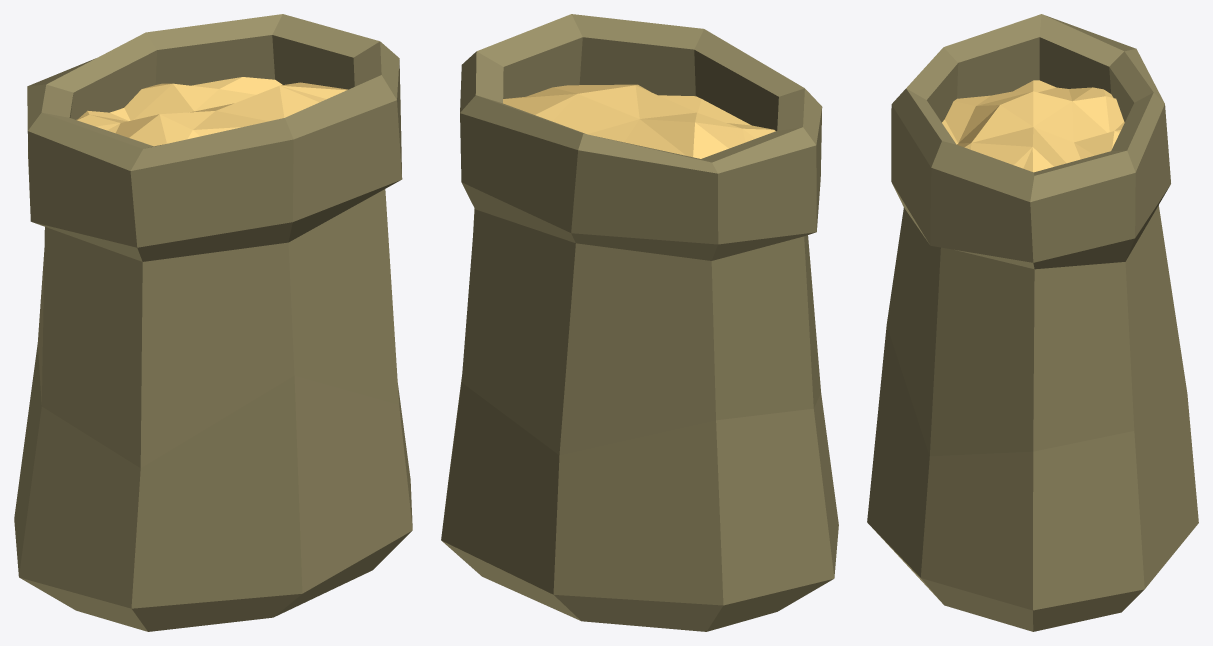
Rendered from Sack_4.fbx.
The picture shows the model from 3 angles, left to right: view 1: azimuth 30°, elevation 25°; view 2: azimuth 150°, elevation 25°; view 3: azimuth 270°, elevation 25°; orthographic projection. The views are drawn at different scales.
Visible parts, largest first — view 1: Sack_4; view 2: Sack_4; view 3: Sack_4.
Boxes of the visible parts, x1=… form: Sack_4: x1=14, y1=14, x2=412, y2=631; Sack_4: x1=441, y1=14, x2=838, y2=631; Sack_4: x1=867, y1=14, x2=1198, y2=631.
Size of the model in its own units: 50.65 by 64.49 by 39.27.
